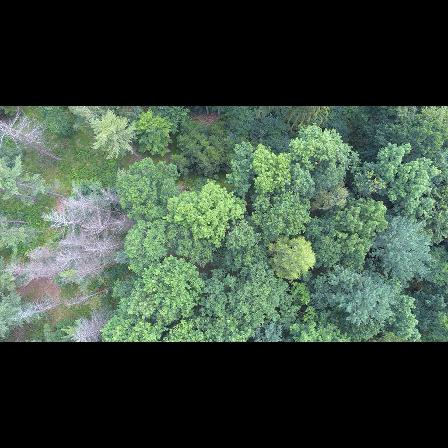Dead: (0, 108, 60, 161), (14, 294, 74, 325), (2, 258, 82, 281), (66, 308, 116, 342), (26, 239, 85, 263), (64, 285, 115, 309), (89, 212, 132, 238), (74, 259, 122, 281), (40, 208, 88, 230), (82, 239, 127, 259), (47, 232, 92, 248), (68, 200, 112, 211), (102, 185, 125, 206)
